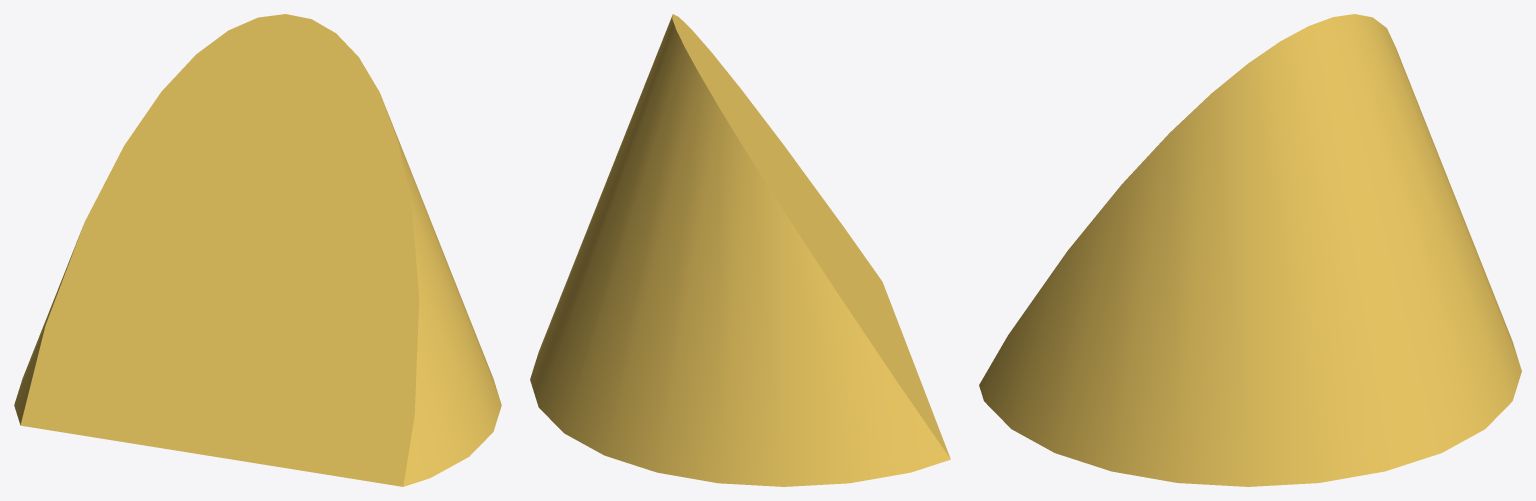
File: Cono_Paralelo_GeneratrizB.fbx
The picture shows the model from 3 angles, left to right: view 1: azimuth 30°, elevation 25°; view 2: azimuth 150°, elevation 25°; view 3: azimuth 270°, elevation 25°; orthographic projection. The views are drawn at different scales.
Parts seen in each view (by area): view 1: Difference2; view 2: Difference2; view 3: Difference2.
Part boxes in pixels (x1,y1,x2,y2): Difference2: (14,14,501,486); Difference2: (530,14,950,486); Difference2: (979,14,1521,486).
Size of the model in its own units: 97.11 by 78.66 by 99.21.
